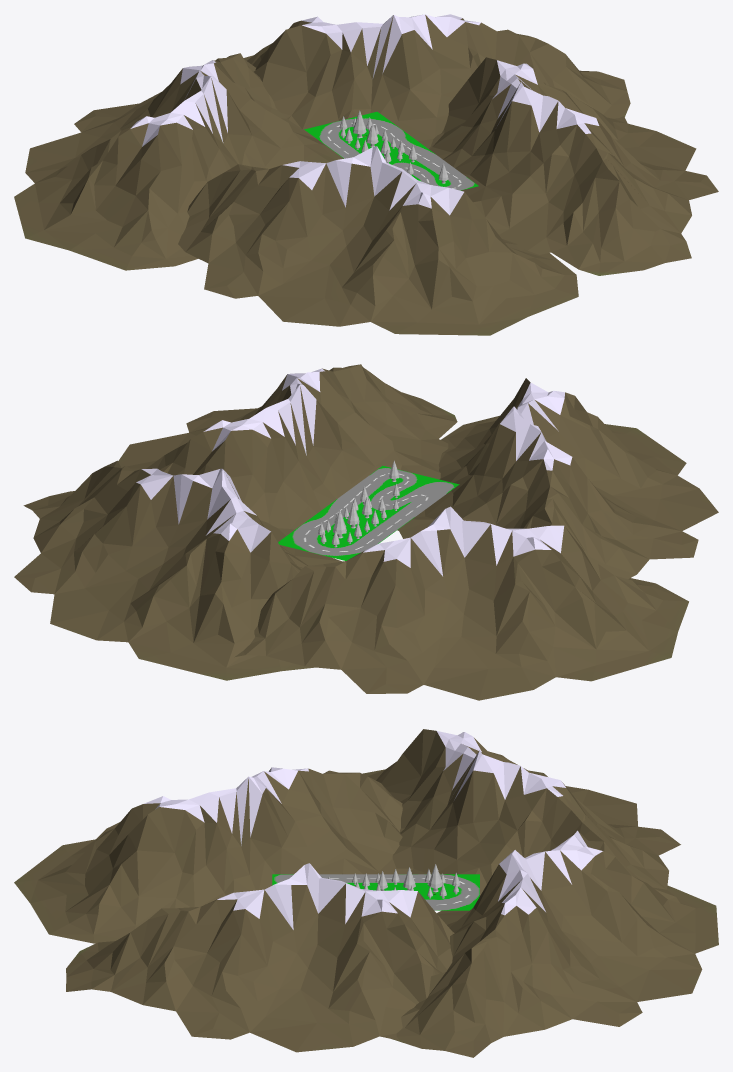
The model's file is driftmap.obj.
The picture shows the model from 3 angles, top to bottom: view 1: azimuth 30°, elevation 25°; view 2: azimuth 150°, elevation 25°; view 3: azimuth 270°, elevation 25°; orthographic projection. The views are drawn at different scales.
Parts seen in each view (by area): view 1: Plane_Plane.001, 平面, Cylinder.003; view 2: Plane_Plane.001, 平面, Cylinder.003; view 3: Plane_Plane.001, 平面, Cylinder.003.
Boxes of the visible parts, x1,y1,x2,y2 form: Plane_Plane.001: (14,14,718,335); 平面: (304,111,478,190); Cylinder.003: (339,110,448,183); Plane_Plane.001: (14,364,718,700); 平面: (278,465,459,560); Cylinder.003: (318,460,399,547); Plane_Plane.001: (14,729,718,1057); 平面: (272,874,479,910); Cylinder.003: (328,864,460,898).
Size of the model in its own units: 1652 by 272 by 1625.
